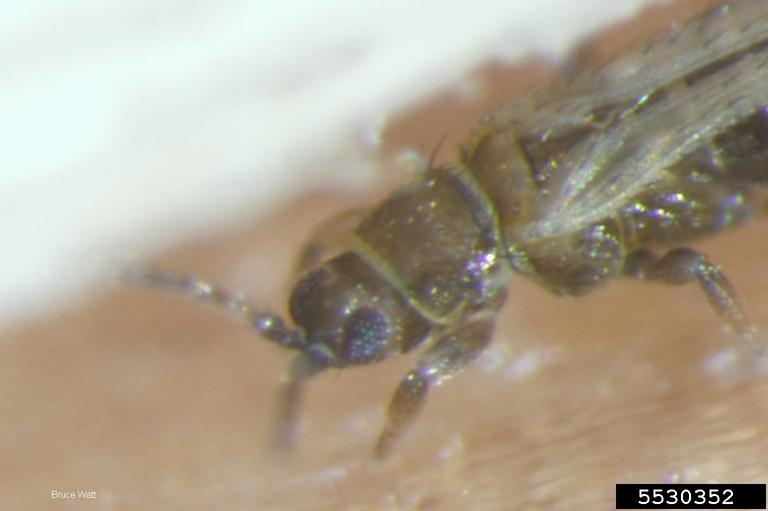Thrips: (245, 8, 768, 421)
